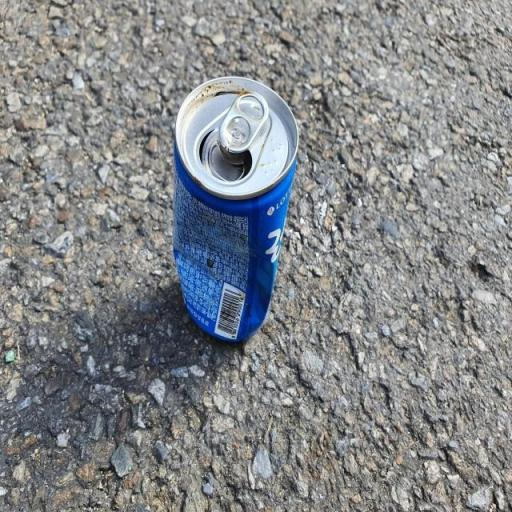metal: (146, 49, 315, 380)
